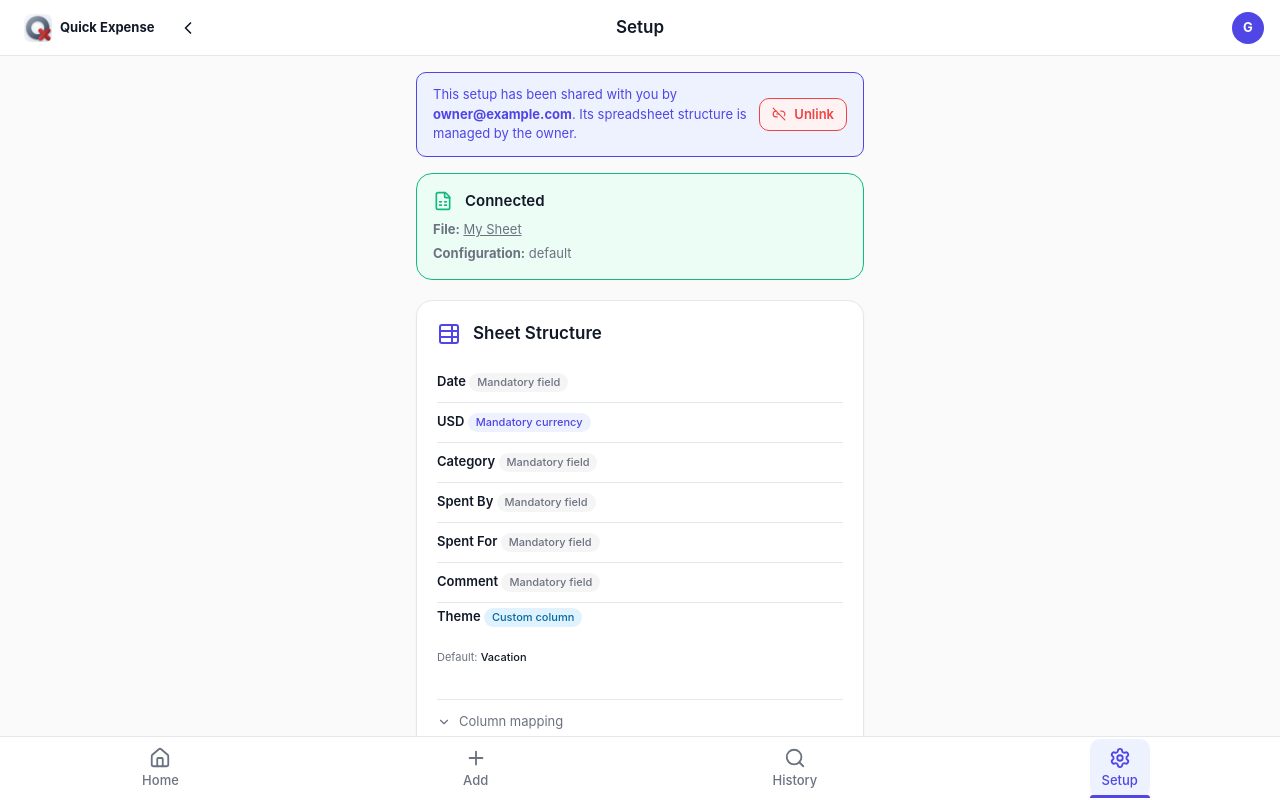
Test: SetupPage — guest unlink › opens the confirmation dialog when Unlink is clicked
Click the button "Unlink".
click(803, 114)  # box [759,98,847,131]
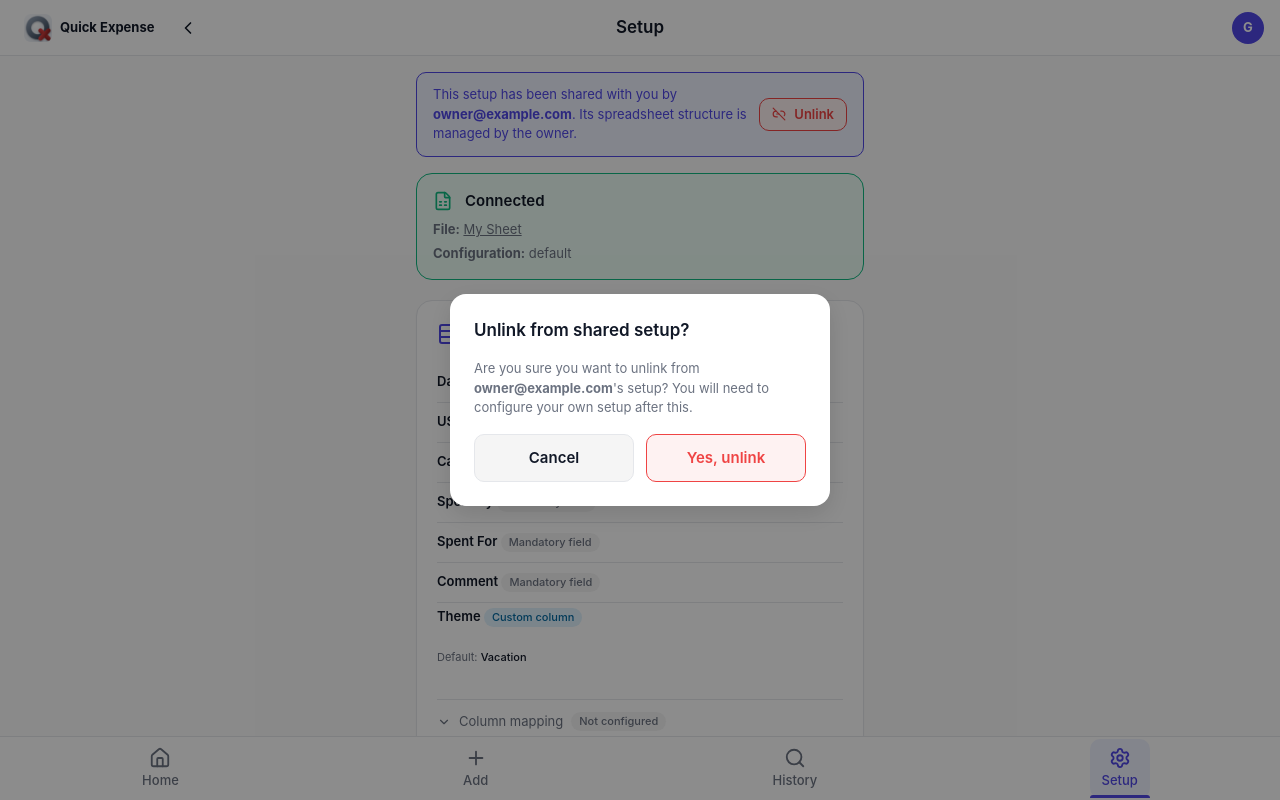
Now the dialog is shown
Now the heading "Unlink from shared setup?" is shown, box [474,320,690,340]
